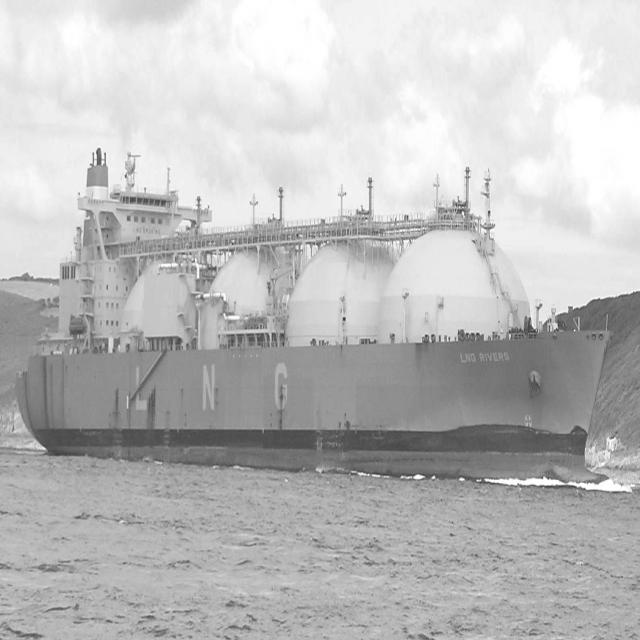LNG: (12, 120, 616, 527)
